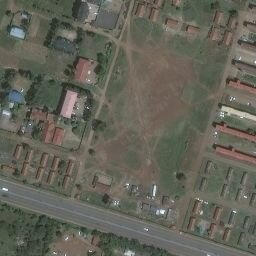tree: (91, 119, 106, 132), (96, 52, 108, 63), (94, 64, 106, 74), (31, 129, 41, 139), (101, 193, 110, 203), (175, 172, 186, 180), (58, 160, 67, 168), (71, 126, 79, 134), (48, 80, 56, 86), (88, 149, 95, 155)
